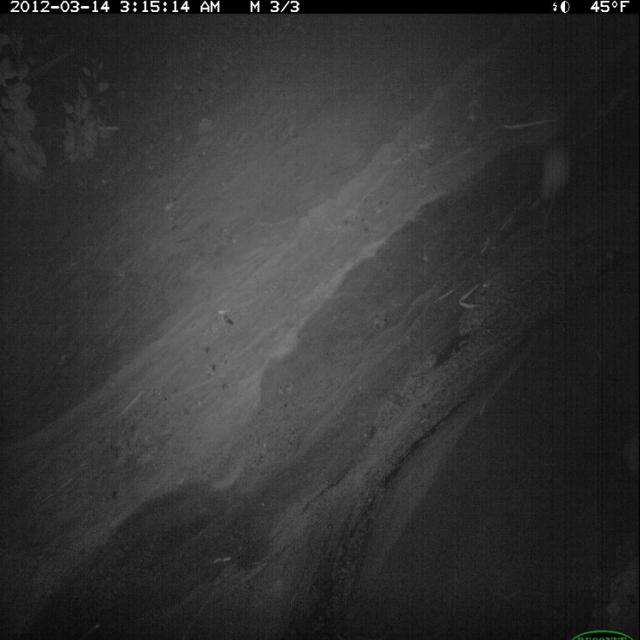opossum: (537, 126, 579, 247)
